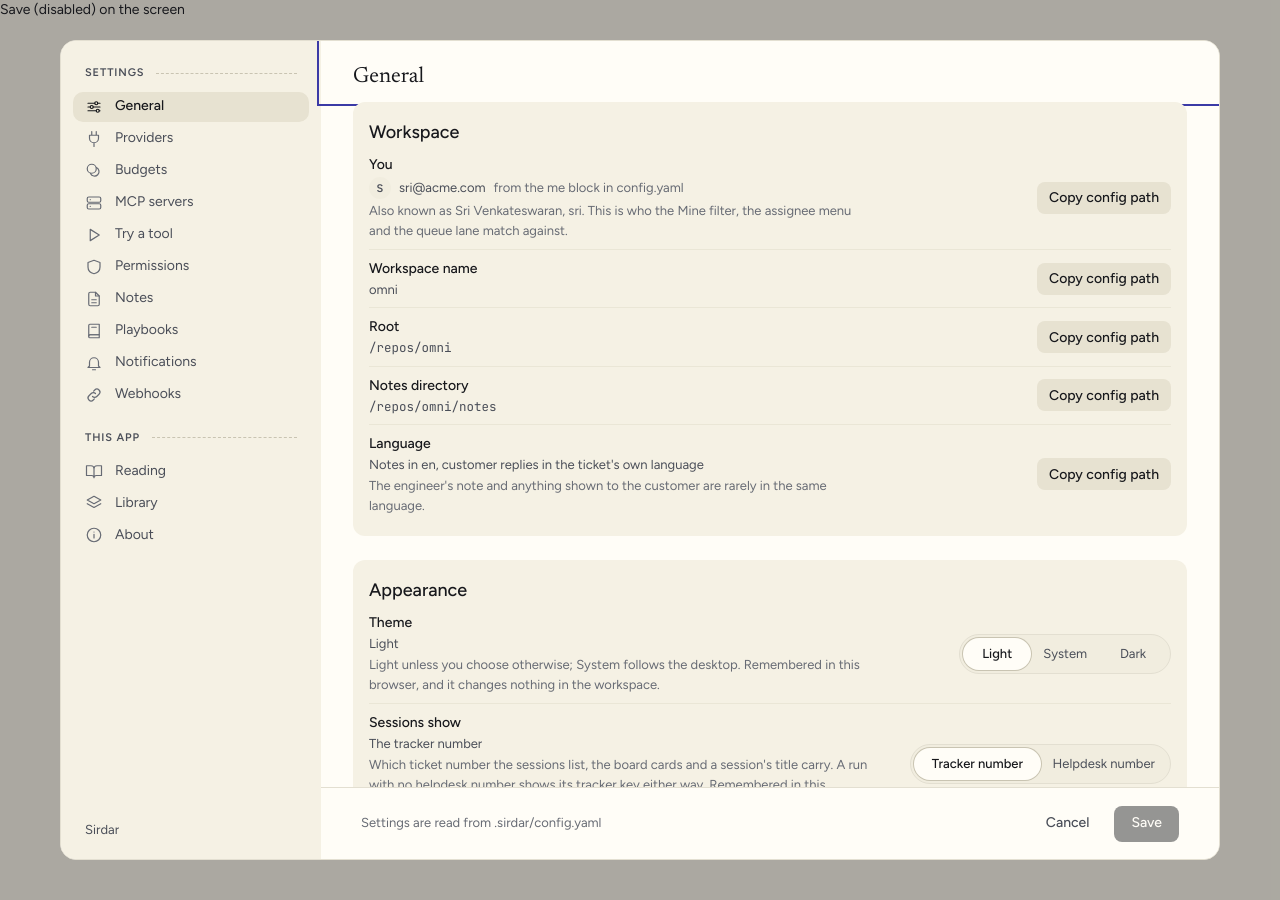
Scenario: General › offers to copy the config path where the transport cannot open files
Click the button with aria-label "Copy config path: Root". click: (1104, 337)
box: [1037,321,1171,353]
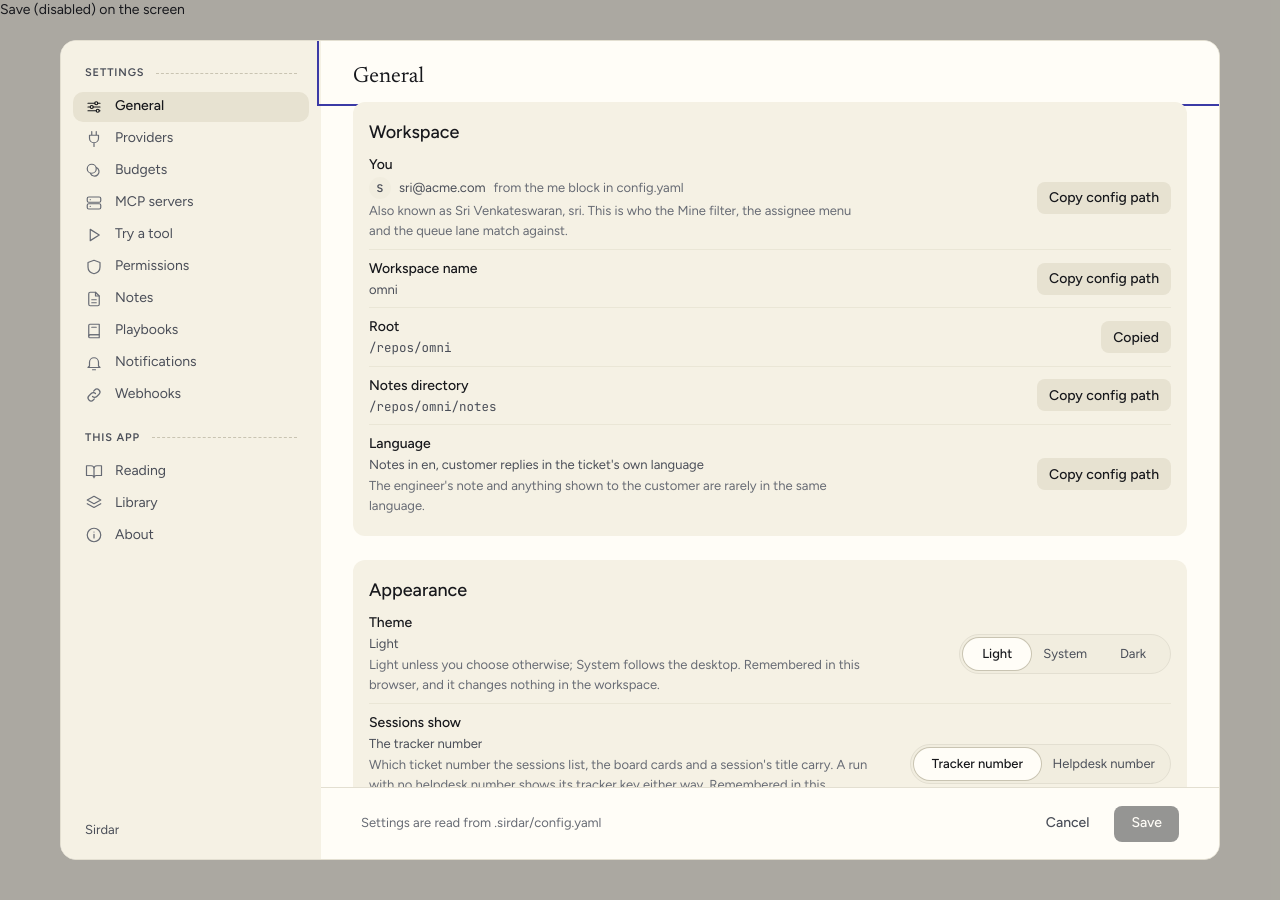
Check: the button "Copied" is shown, box [1101,321,1171,353]
